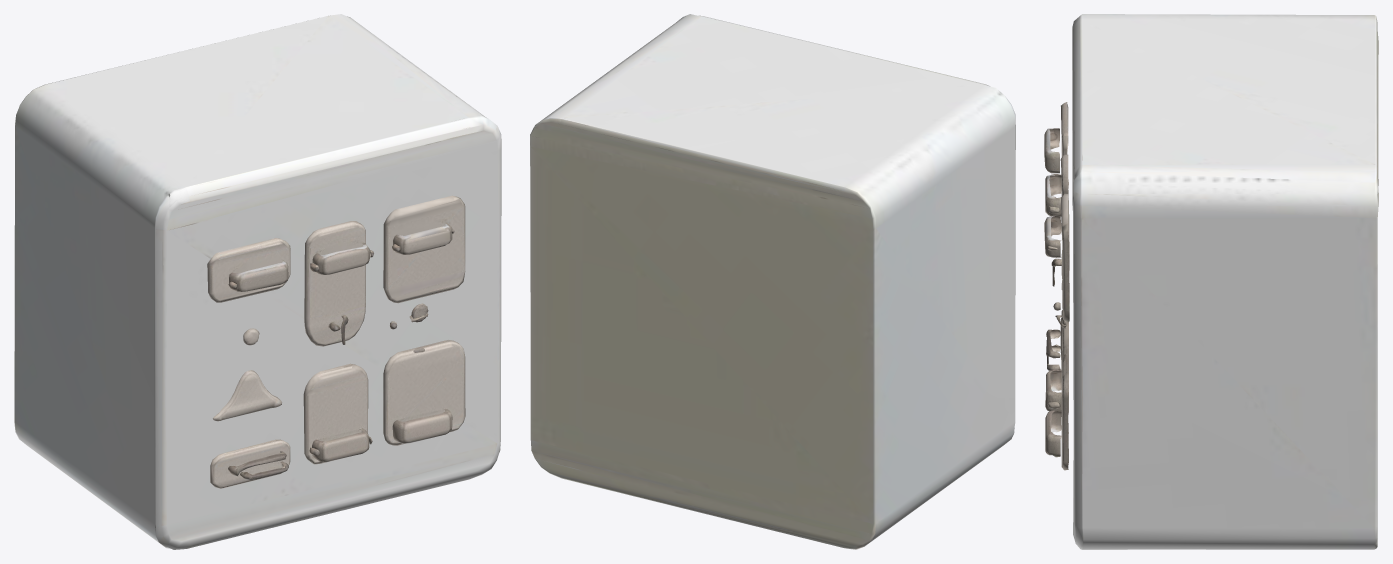
Rendered from ColorGrid.glb.
3 renders of one model, left to right at view 1: azimuth 30°, elevation 25°; view 2: azimuth 150°, elevation 25°; view 3: azimuth 270°, elevation 25°, orthographic. The views are drawn at different scales.
Size of the model in its own units: 1 by 1 by 0.7969.
Materials: 1 (1 with a texture image).
